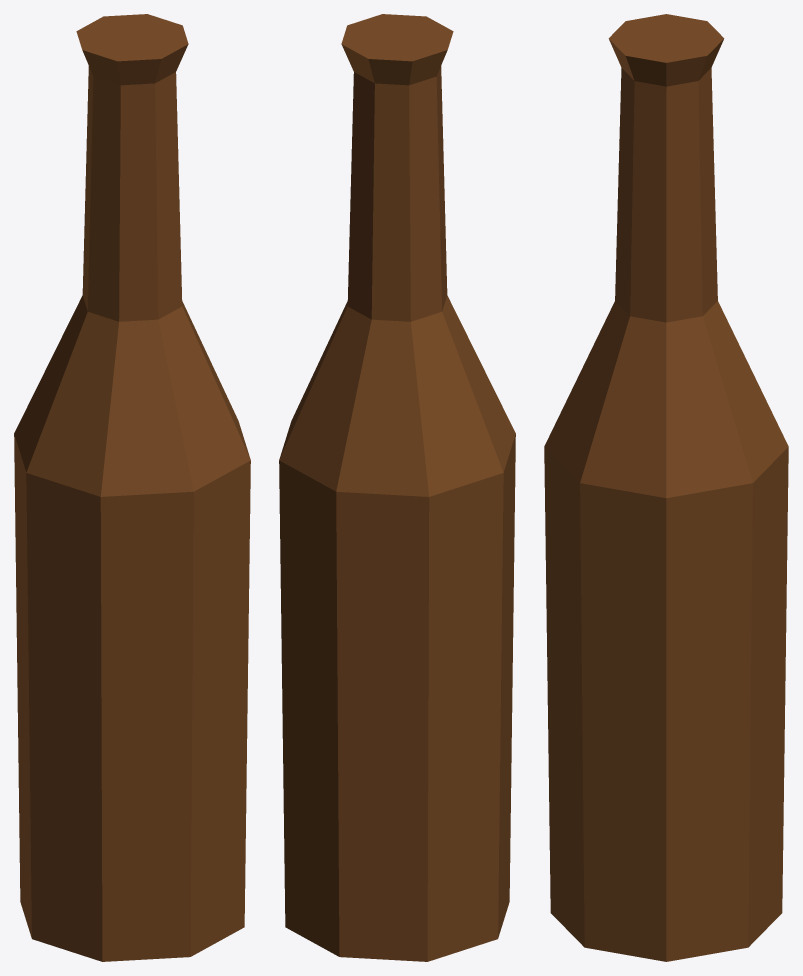
The model's file is SM_Bottle_Brown.fbx.
The picture shows the model from 3 angles, left to right: view 1: azimuth 30°, elevation 25°; view 2: azimuth 150°, elevation 25°; view 3: azimuth 270°, elevation 25°; orthographic projection.
Visible parts, largest first — view 1: Bottle_Brown; view 2: Bottle_Brown; view 3: Bottle_Brown.
Boxes of the visible parts, x1=… form: Bottle_Brown: x1=14, y1=14, x2=250, y2=961; Bottle_Brown: x1=279, y1=14, x2=515, y2=961; Bottle_Brown: x1=544, y1=14, x2=788, y2=961.
Size of the model in its own units: 7.6 by 7.6 by 30.
